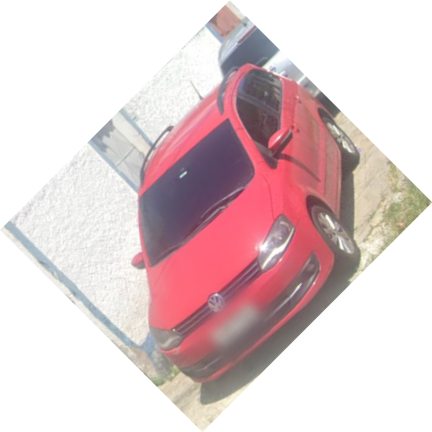car: (135, 62, 361, 390)
